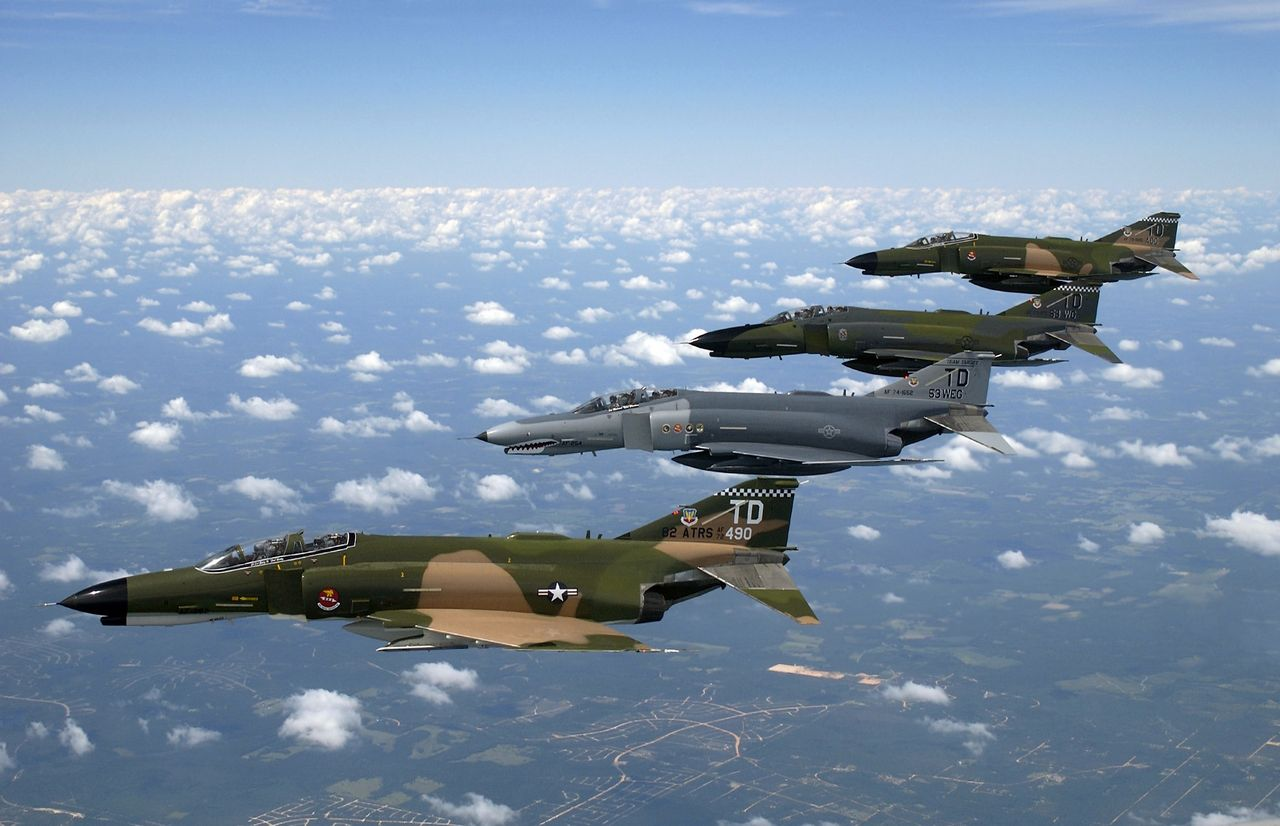F4: (32, 476, 821, 653), (457, 350, 1017, 477), (671, 280, 1124, 379), (832, 212, 1202, 295)
